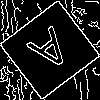A: (24, 25, 80, 83)
